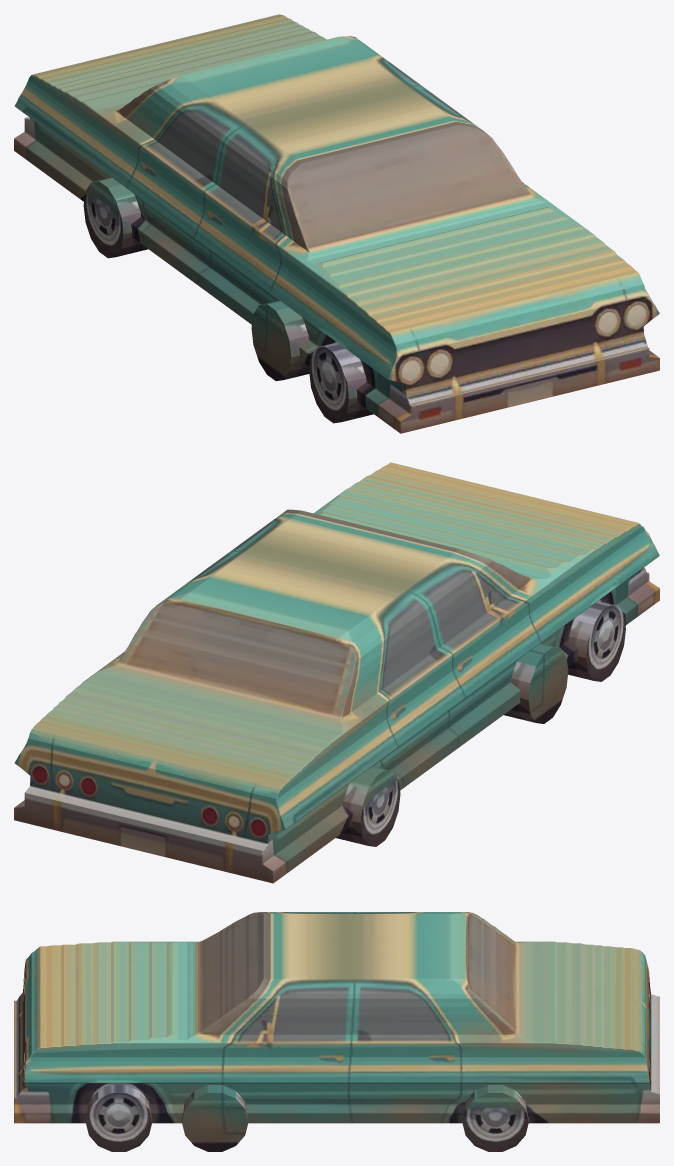
Rendered from car_a.glb.
3 views of the same model, one above another, from view 1: azimuth 30°, elevation 25°; view 2: azimuth 150°, elevation 25°; view 3: azimuth 270°, elevation 25° (orthographic). The views are drawn at different scales.
Visible parts, largest first — view 1: car_a; view 2: car_a; view 3: car_a.
Part boxes in pixels (box(x1,y1,x2,y2)): car_a: box(14, 14, 659, 433); car_a: box(14, 462, 659, 883); car_a: box(14, 912, 659, 1151).
Bounding box in the file's own units: 2.01 × 1.24 × 4.86.
Materials: 1 (1 with a texture image).
